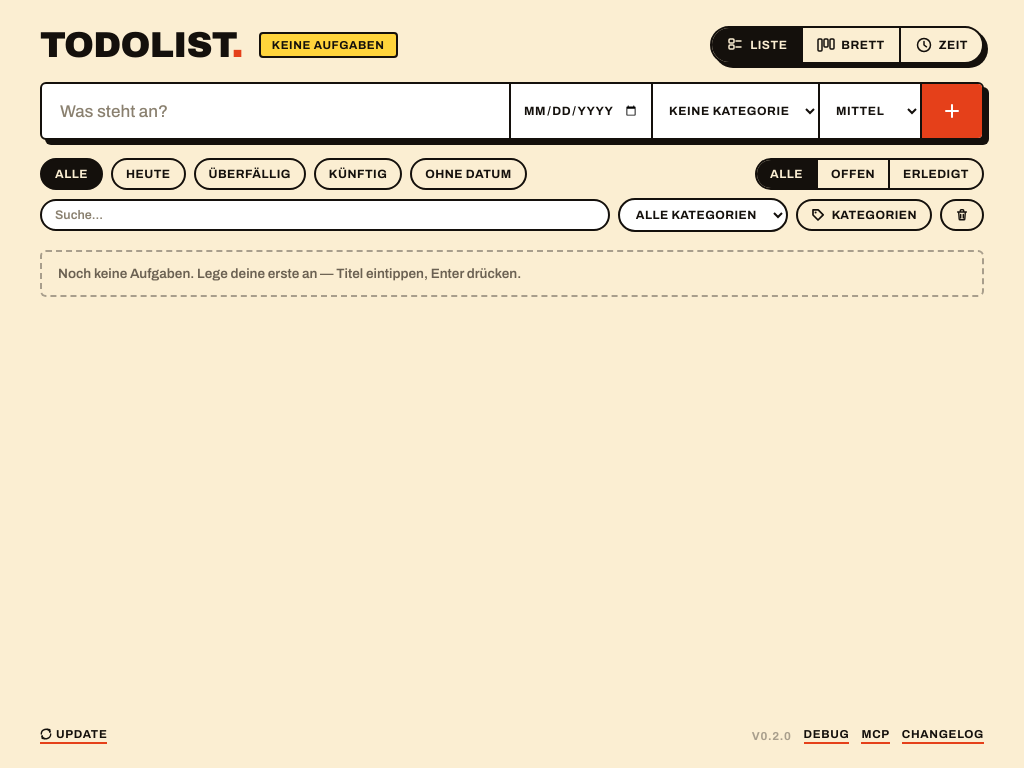
Test: App › reports when no update is available
Expected: the text "Noch keine Aufgaben" is shown, [58,266,521,281]
Click the button with aria-label "Nach Updates suchen": (74, 736) [40,728,108,744]
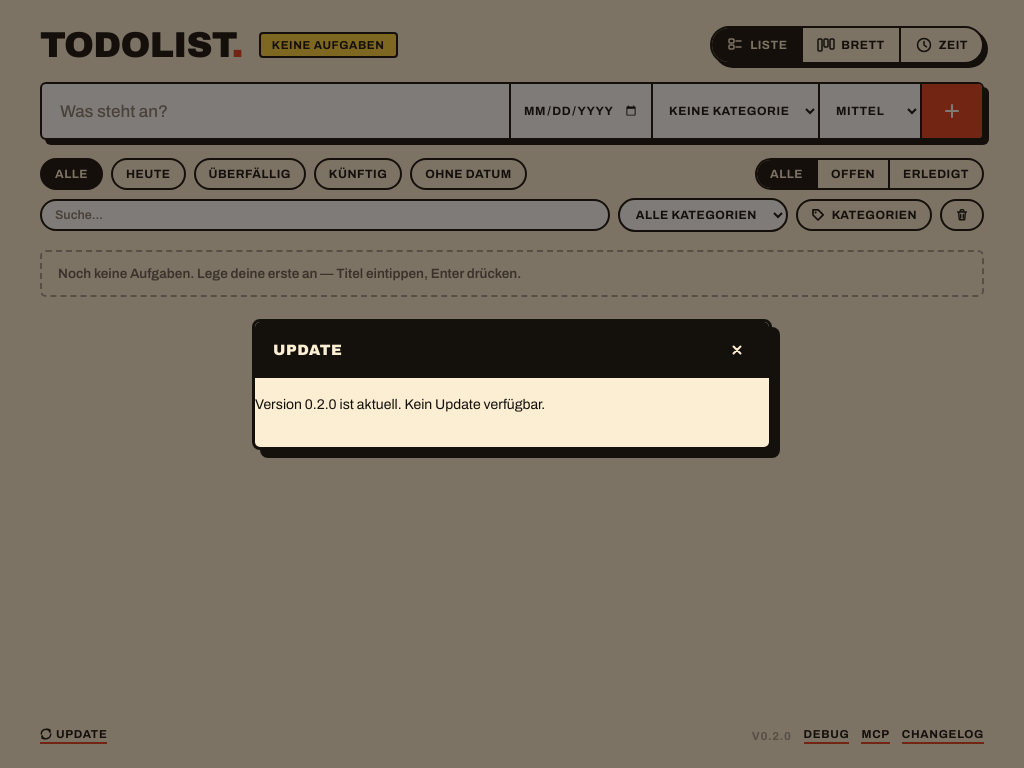
Expected: the text "Version 0.2.0 ist aktuell. Kein Update verfügbar." is shown, [255,396,545,412]
